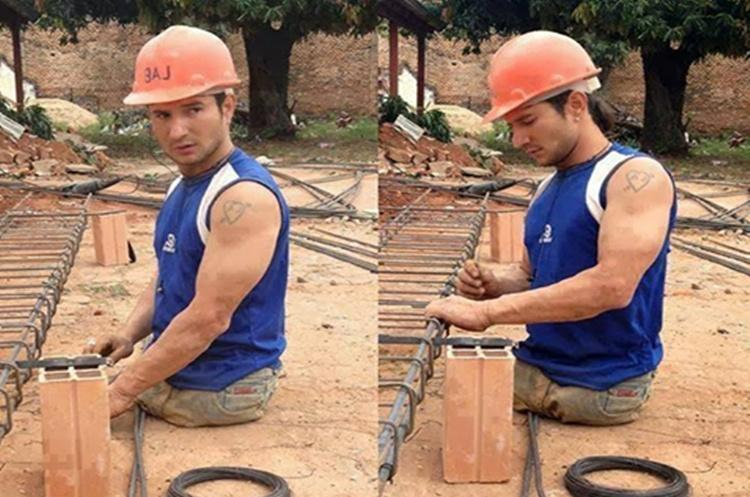helmet: (482, 31, 602, 125), (124, 27, 242, 102)
